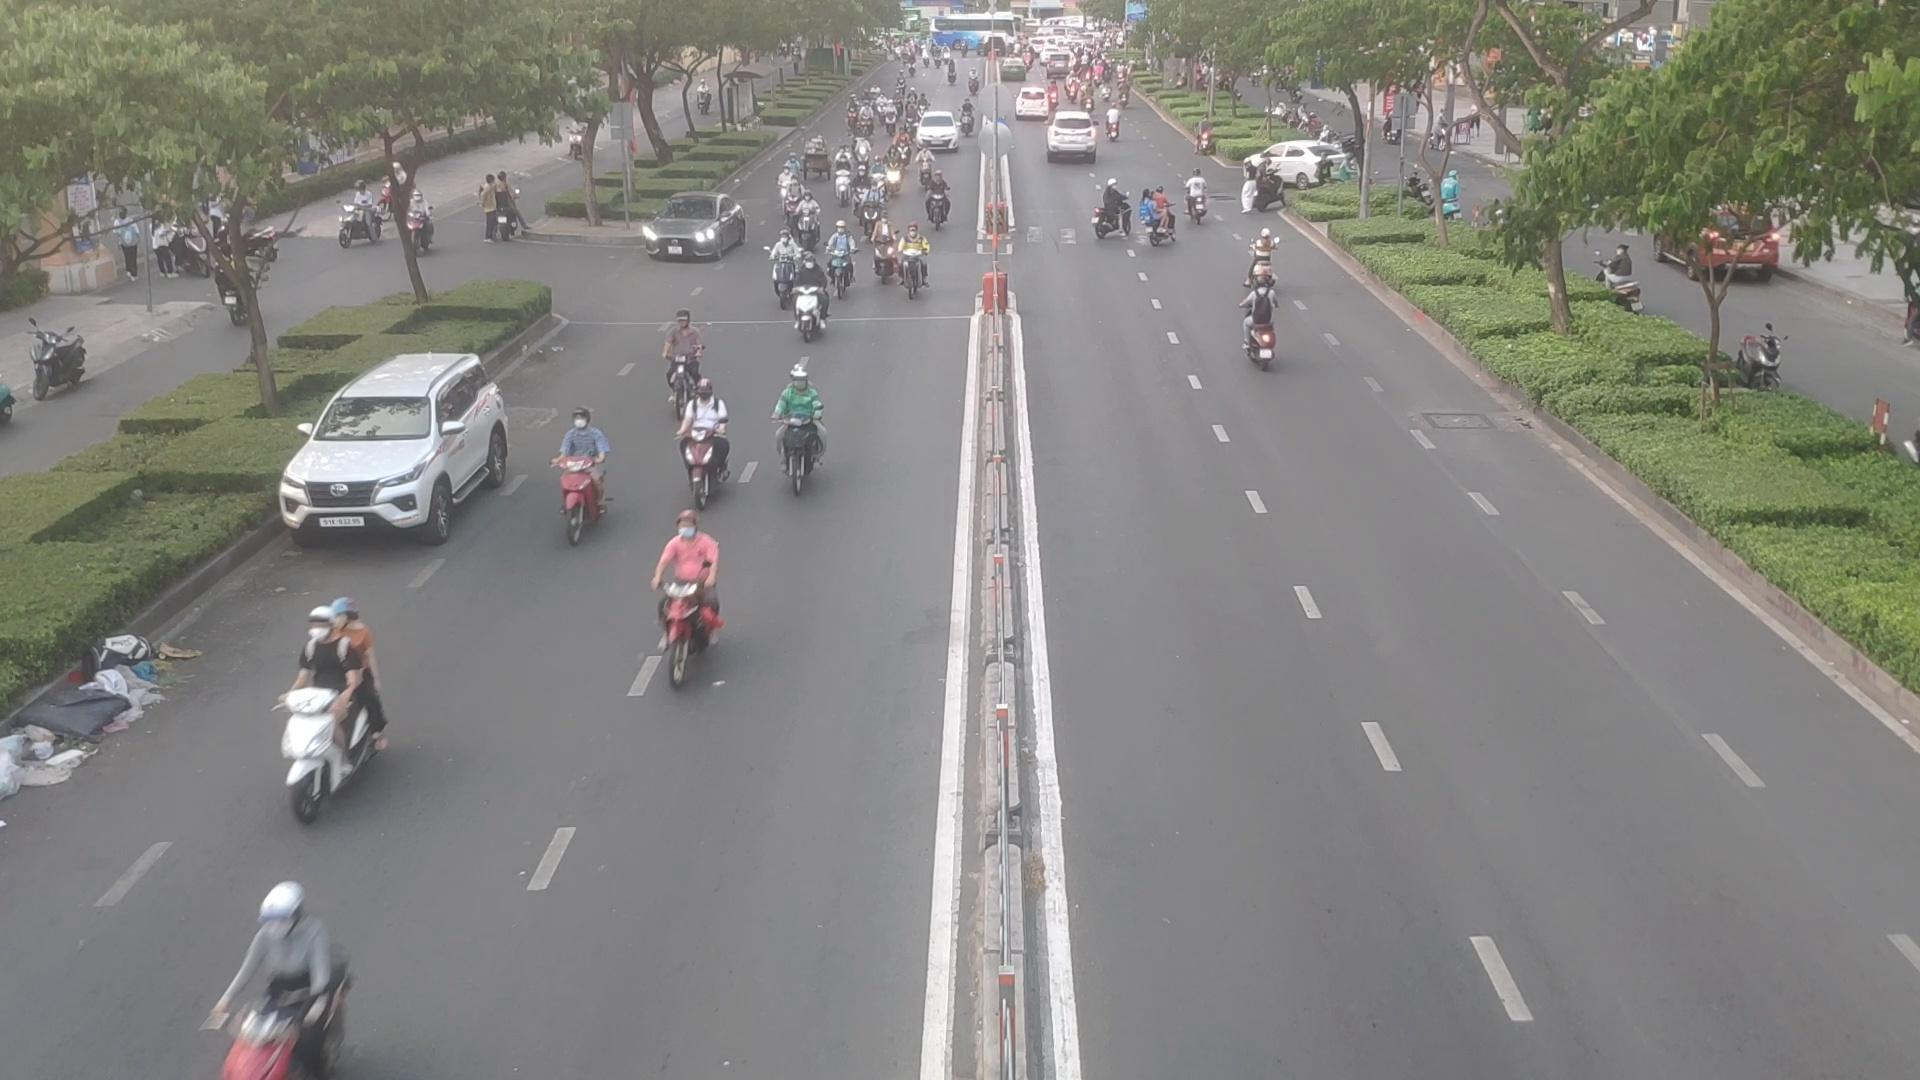car: (280, 355, 516, 549), (1238, 125, 1369, 195), (637, 194, 749, 262), (1042, 119, 1096, 166)
motorbike: (199, 878, 342, 1073), (291, 599, 377, 822), (647, 510, 716, 686), (543, 401, 618, 541), (767, 371, 823, 491), (684, 382, 740, 487), (1234, 282, 1286, 390), (669, 305, 703, 400), (796, 247, 829, 342), (767, 233, 799, 309), (1241, 228, 1282, 285), (903, 228, 932, 305), (1098, 185, 1131, 251), (872, 215, 897, 293), (796, 187, 822, 248), (1145, 186, 1168, 249), (827, 218, 847, 291), (924, 175, 956, 222), (1180, 171, 1207, 225), (865, 183, 887, 236), (891, 127, 911, 167), (915, 149, 938, 185), (786, 177, 800, 231), (885, 149, 901, 190), (855, 138, 872, 174), (855, 167, 866, 215), (779, 165, 790, 211), (837, 158, 847, 211)
